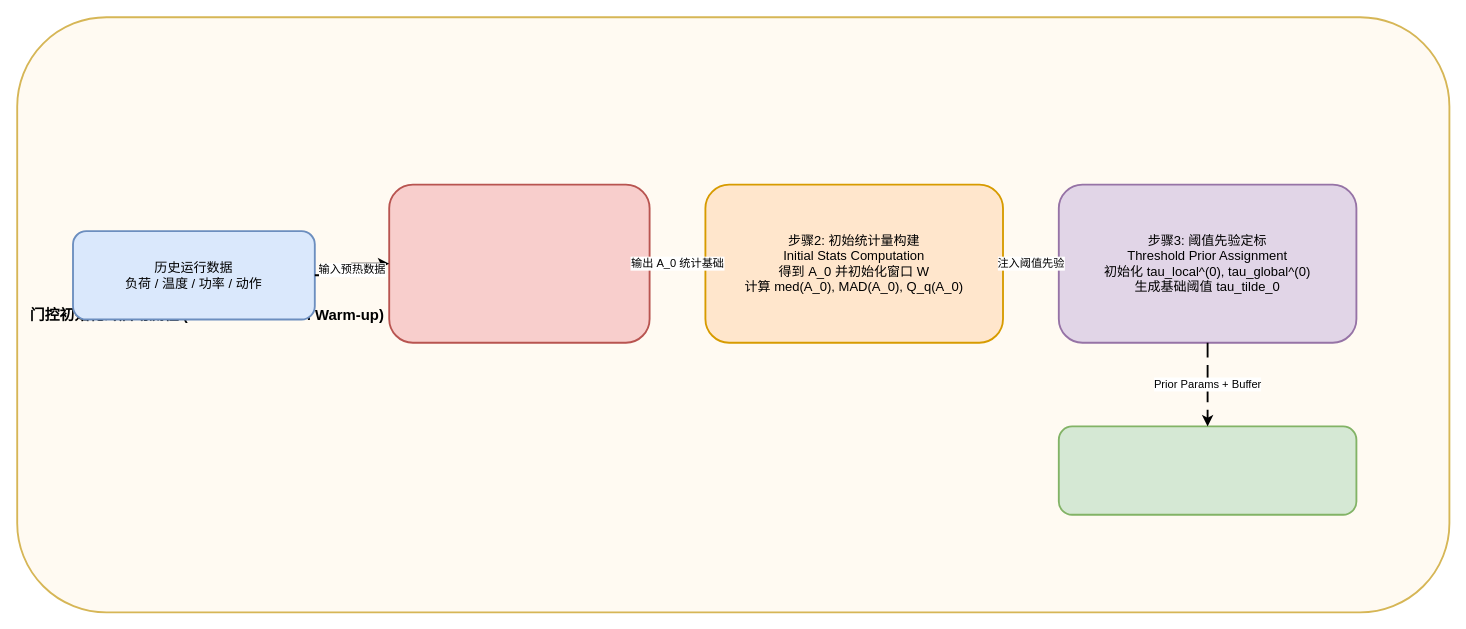
Some shapes in this 1466 by 629 pixel diagram are drawn without their labels. The shapes that lost their labels are listed below. From the top down, each one's box as (x1, y1, x2, y2) in pixels, then its label:
(388, 183, 650, 343): 步骤1: 参考样本预热 Reference Pool Warm-up 抽取前 N_ref 个样本 构建门控参考样本池
(1057, 425, 1357, 515): 在线流式门控模块 接收先验参数与初始缓冲池
